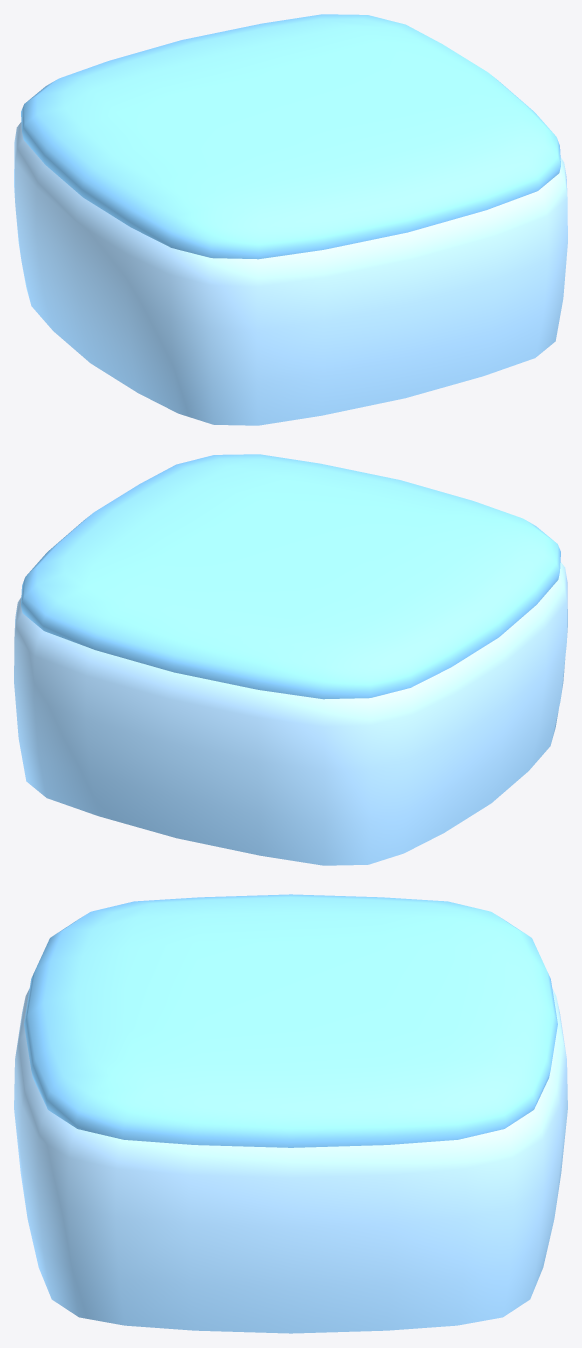
File: ground_004.glb
3 views of the same model, one above another, from view 1: azimuth 30°, elevation 25°; view 2: azimuth 150°, elevation 25°; view 3: azimuth 270°, elevation 25° (orthographic). The views are drawn at different scales.
Visible parts, largest first — view 1: ground_004; view 2: ground_004; view 3: ground_004.
Boxes of the visible parts, x1,y1,x2,y2 form: ground_004: (14,14,567,425); ground_004: (14,454,567,865); ground_004: (14,894,567,1333).
Bounding box in the file's own units: 10.01 × 4.65 × 9.87.
1 material, 1 textured.
